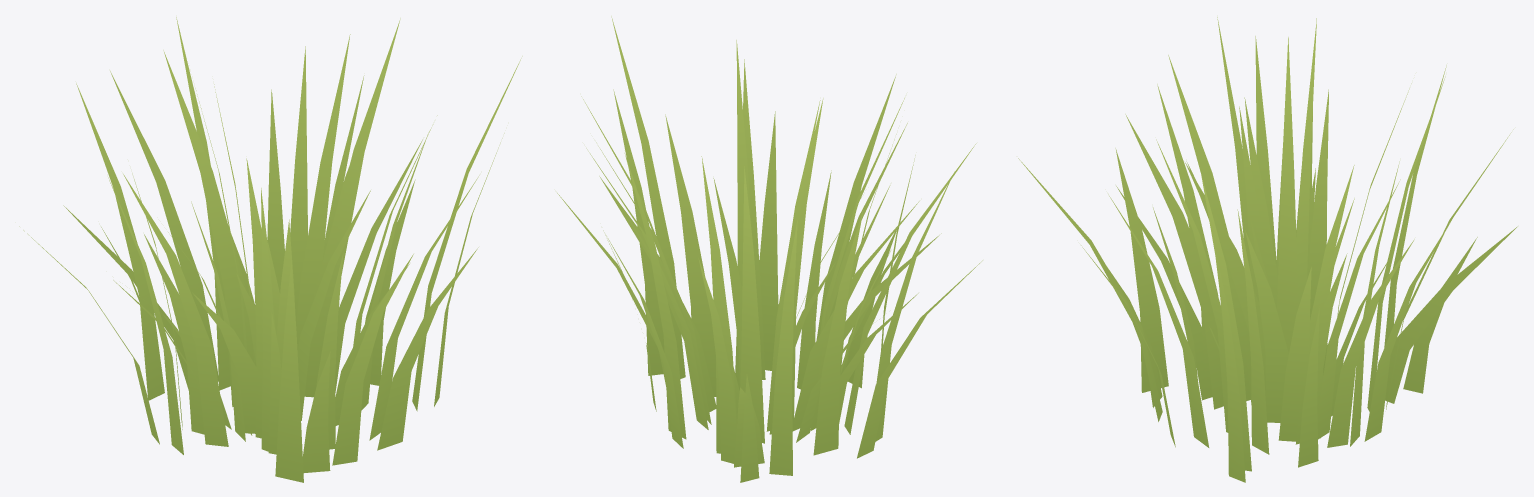
Rendered from grass_tuft.glb.
3 views of the same model, side by side, from view 1: azimuth 30°, elevation 25°; view 2: azimuth 150°, elevation 25°; view 3: azimuth 270°, elevation 25° (orthographic). The views are drawn at different scales.
Parts seen in each view (by area): view 1: grass_tuft; view 2: grass_tuft; view 3: grass_tuft.
Boxes of the visible parts, <box> form: grass_tuft: <box>19,17,522,482</box>; grass_tuft: <box>557,16,982,482</box>; grass_tuft: <box>1018,17,1517,482</box>.
Bounding box in the file's own units: 0.9133 × 0.7196 × 0.904.
